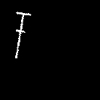double_crochet: (15, 12, 30, 57)
